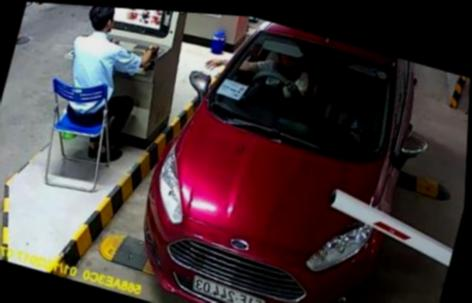License_Plate: (183, 274, 273, 303)
